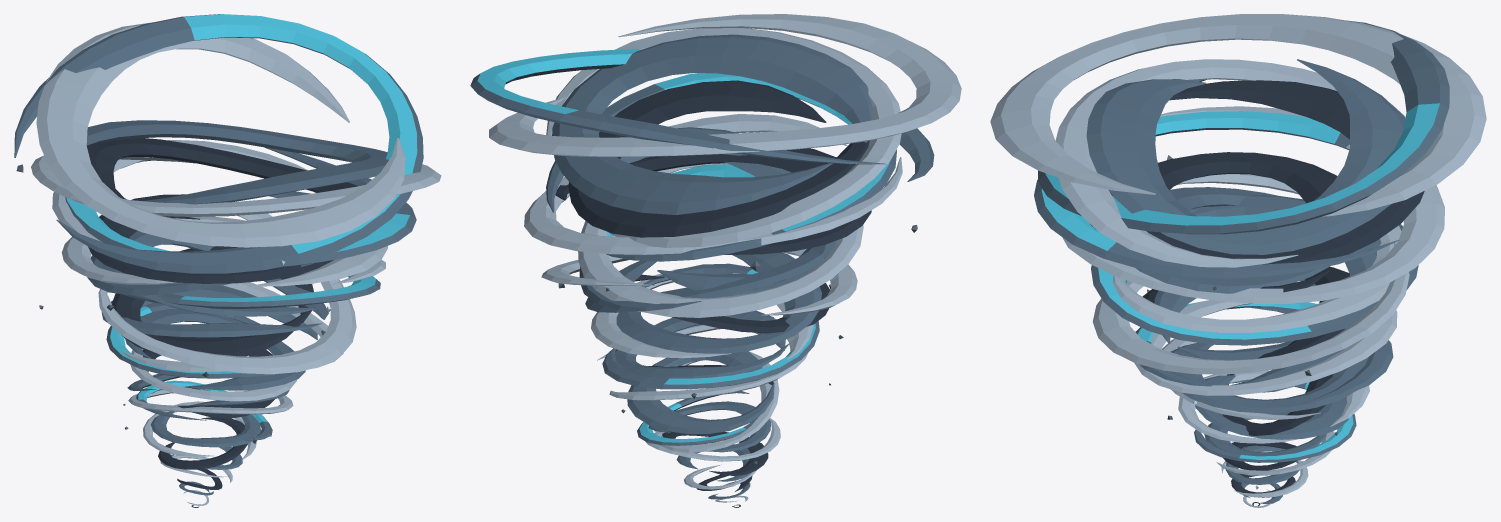
Rendered from Tornado_Nivel_4.glb.
3 renders of one model, left to right at view 1: azimuth 30°, elevation 25°; view 2: azimuth 150°, elevation 25°; view 3: azimuth 270°, elevation 25°, orthographic. The views are drawn at different scales.
Parts seen in each view (by area): view 1: Ribbon_32_WIND_RIBBONS, Ribbon_31_CYAN_DETAILS, Ribbon_30_MAIN_BODY, Ribbon_20_WIND_RIBBONS, Ribbon_29_WIND_RIBBONS, Ribbon_28_MAIN_BODY, Ribbon_27_CYAN_DETAILS, Ribbon_26_WIND_RIBBONS, Ribbon_19_MAIN_BODY, Ribbon_18_MAIN_BODY, Ribbon_25_MAIN_BODY, Ribbon_22_CYAN_DETAILS (+14 smaller); view 2: Ribbon_30_MAIN_BODY, Ribbon_32_WIND_RIBBONS, Ribbon_28_MAIN_BODY, Ribbon_31_CYAN_DETAILS, Ribbon_29_WIND_RIBBONS, Ribbon_26_WIND_RIBBONS, Ribbon_23_WIND_RIBBONS, Ribbon_27_CYAN_DETAILS, Ribbon_18_MAIN_BODY, Ribbon_25_MAIN_BODY, Ribbon_16_CYAN_DETAILS, Ribbon_12_MAIN_BODY (+13 smaller); view 3: Ribbon_32_WIND_RIBBONS, Ribbon_30_MAIN_BODY, Ribbon_31_CYAN_DETAILS, Ribbon_29_WIND_RIBBONS, Ribbon_27_CYAN_DETAILS, Ribbon_26_WIND_RIBBONS, Ribbon_28_MAIN_BODY, Ribbon_20_WIND_RIBBONS, Ribbon_23_WIND_RIBBONS, Ribbon_25_MAIN_BODY, Ribbon_17_WIND_RIBBONS, Ribbon_22_CYAN_DETAILS (+16 smaller).
Boxes of the visible parts, x1,y1,x2,y2 form: Ribbon_32_WIND_RIBBONS: (36, 22, 405, 247); Ribbon_31_CYAN_DETAILS: (14, 14, 423, 273); Ribbon_30_MAIN_BODY: (86, 120, 388, 204); Ribbon_20_WIND_RIBBONS: (98, 213, 356, 374); Ribbon_29_WIND_RIBBONS: (31, 155, 441, 216); Ribbon_28_MAIN_BODY: (87, 138, 358, 219); Ribbon_27_CYAN_DETAILS: (65, 147, 416, 267); Ribbon_26_WIND_RIBBONS: (52, 140, 387, 286); Ribbon_19_MAIN_BODY: (112, 246, 313, 356); Ribbon_18_MAIN_BODY: (101, 286, 321, 339); Ribbon_25_MAIN_BODY: (88, 194, 334, 283); Ribbon_22_CYAN_DETAILS: (123, 275, 380, 308); Ribbon_30_MAIN_BODY: (552, 34, 872, 214); Ribbon_32_WIND_RIBBONS: (489, 14, 961, 156); Ribbon_28_MAIN_BODY: (568, 80, 869, 237); Ribbon_31_CYAN_DETAILS: (470, 49, 934, 181); Ribbon_29_WIND_RIBBONS: (546, 28, 901, 247); Ribbon_26_WIND_RIBBONS: (524, 114, 902, 254); Ribbon_23_WIND_RIBBONS: (578, 163, 863, 317); Ribbon_27_CYAN_DETAILS: (546, 73, 896, 261); Ribbon_18_MAIN_BODY: (616, 252, 821, 353); Ribbon_25_MAIN_BODY: (555, 148, 871, 254); Ribbon_16_CYAN_DETAILS: (602, 263, 819, 389); Ribbon_12_MAIN_BODY: (627, 351, 774, 433); Ribbon_32_WIND_RIBBONS: (990, 14, 1486, 216); Ribbon_30_MAIN_BODY: (1086, 59, 1405, 254); Ribbon_31_CYAN_DETAILS: (1038, 20, 1449, 234); Ribbon_29_WIND_RIBBONS: (1055, 59, 1405, 267); Ribbon_27_CYAN_DETAILS: (1034, 111, 1436, 278); Ribbon_26_WIND_RIBBONS: (1062, 106, 1444, 303); Ribbon_28_MAIN_BODY: (1090, 80, 1424, 264); Ribbon_20_WIND_RIBBONS: (1092, 242, 1409, 374); Ribbon_23_WIND_RIBBONS: (1113, 174, 1401, 332); Ribbon_25_MAIN_BODY: (1158, 152, 1337, 292); Ribbon_17_WIND_RIBBONS: (1134, 300, 1397, 395); Ribbon_22_CYAN_DETAILS: (1091, 208, 1418, 345).
Size of the model in its own units: 11.51 by 12.1 by 12.31.
